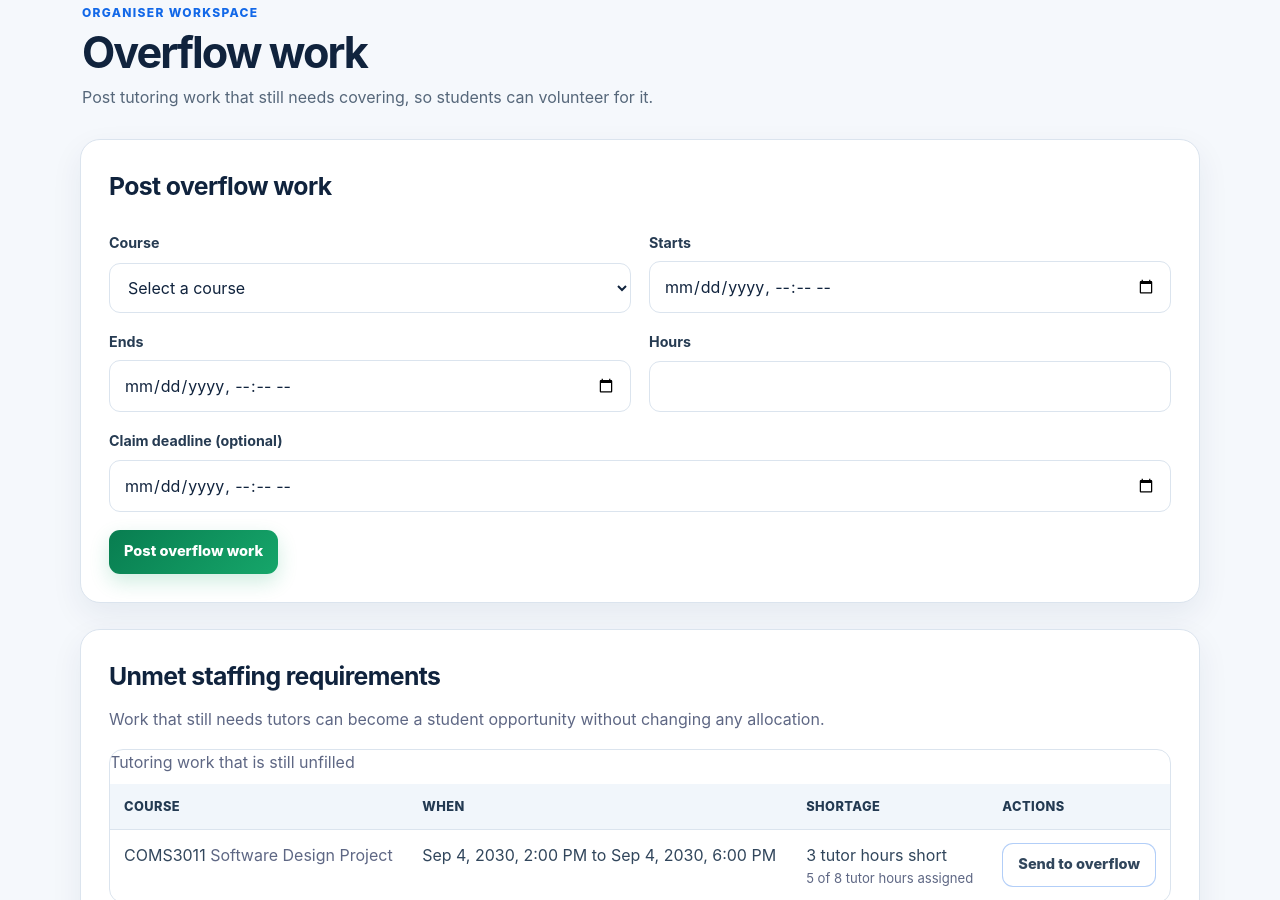
Test: OrganiserOverflow › posts hand-written work with no source requirement
Select "COMS3011 - Software Design Project" in the dropdown labelled "Course" at (370, 288), box [109,263,631,313]
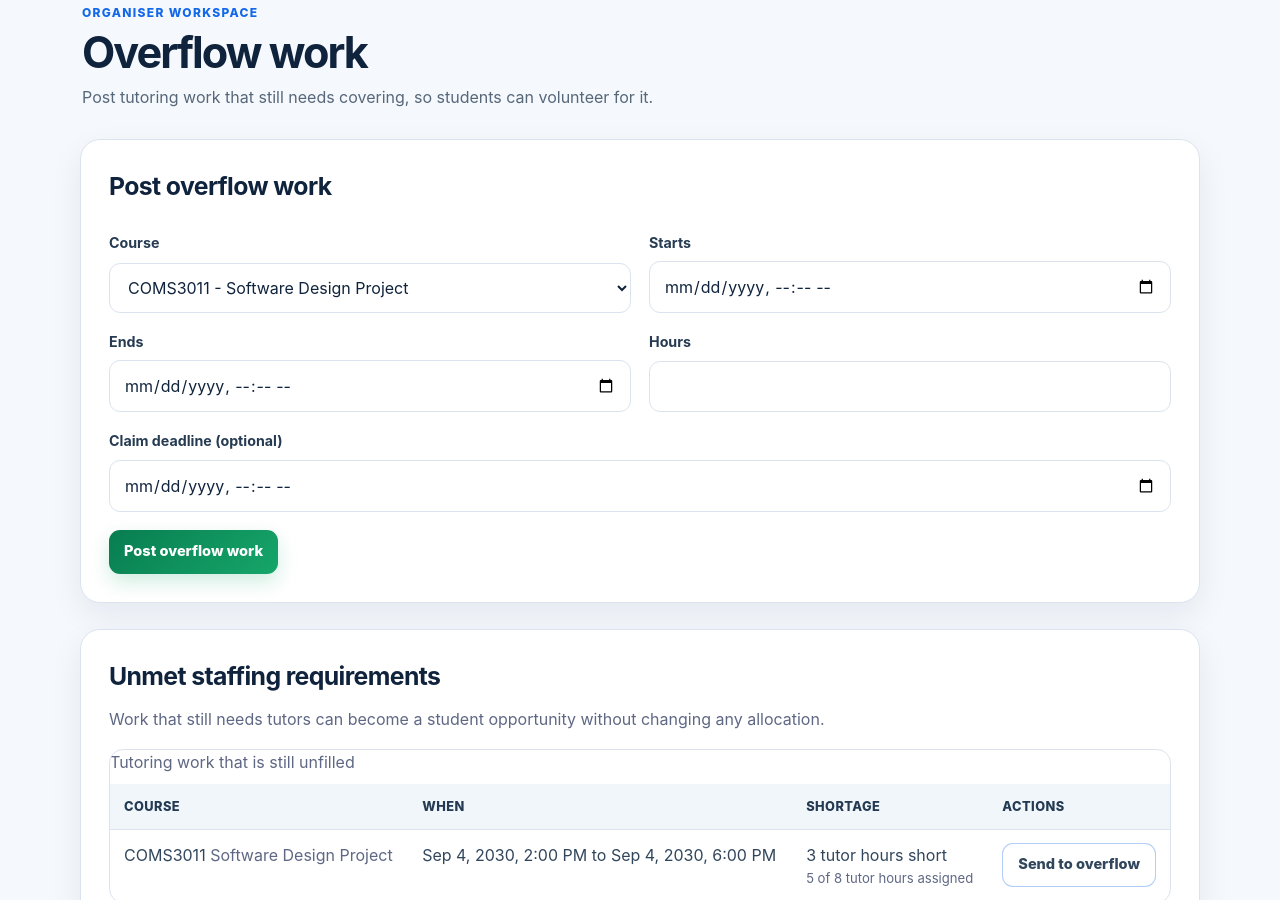
Type "2030-09-04T14:00" into the field labelled "Starts" at (910, 287), box [649,261,1171,313]
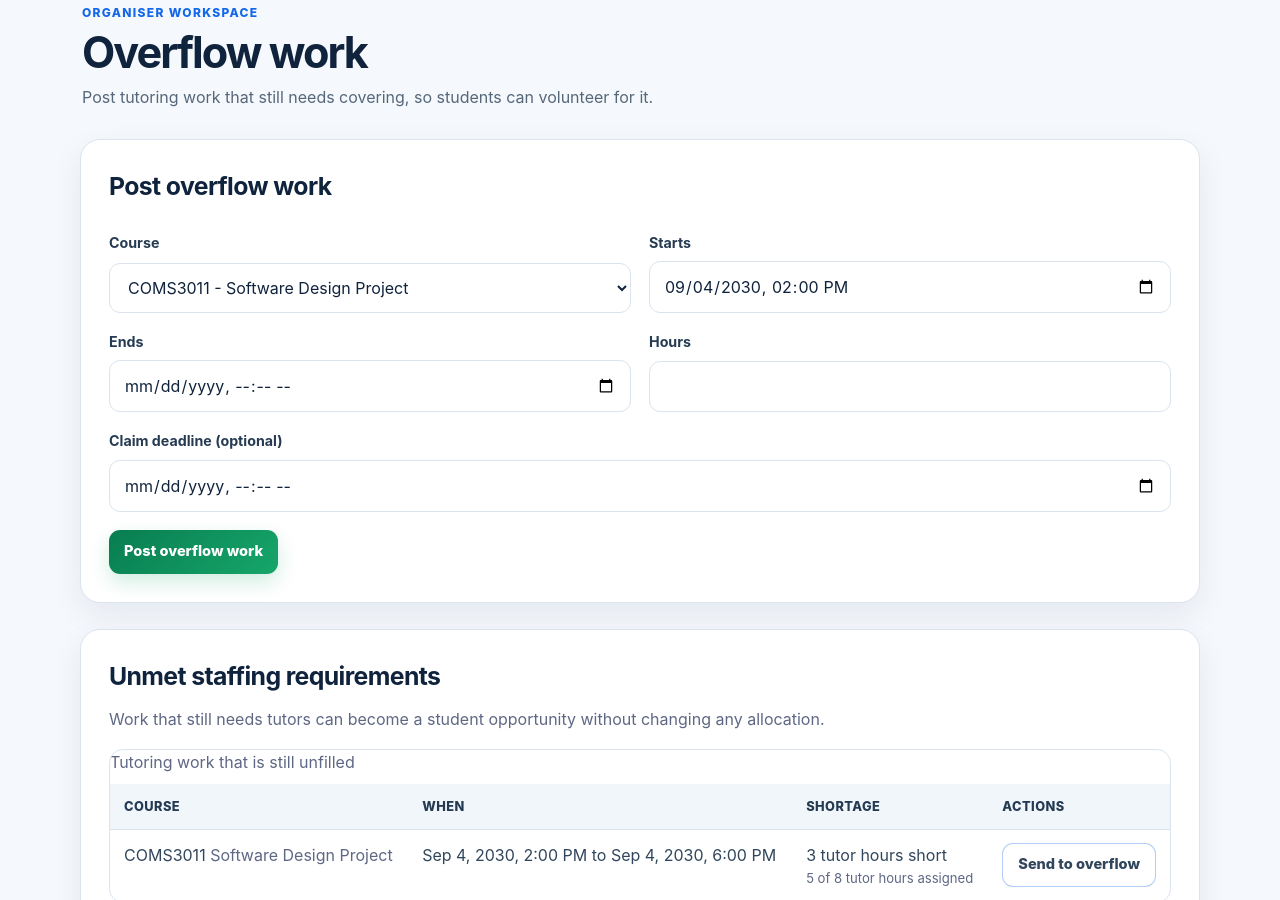
Type "2030-09-04T18:00" into the field labelled "Ends" at (370, 386), box [109,360,631,412]
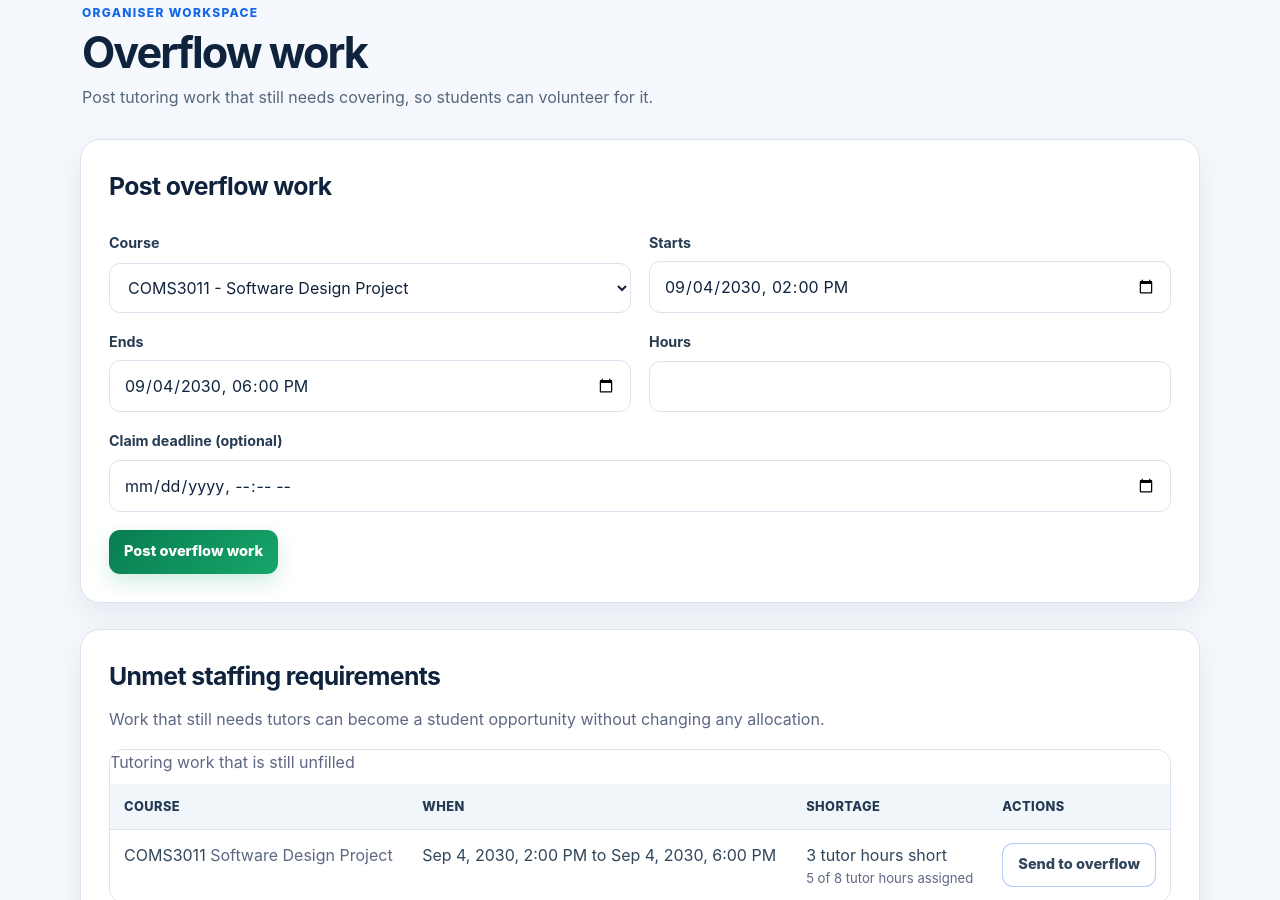
Type "4" into the number field labelled "Hours" at (910, 387), box [649,361,1171,412]
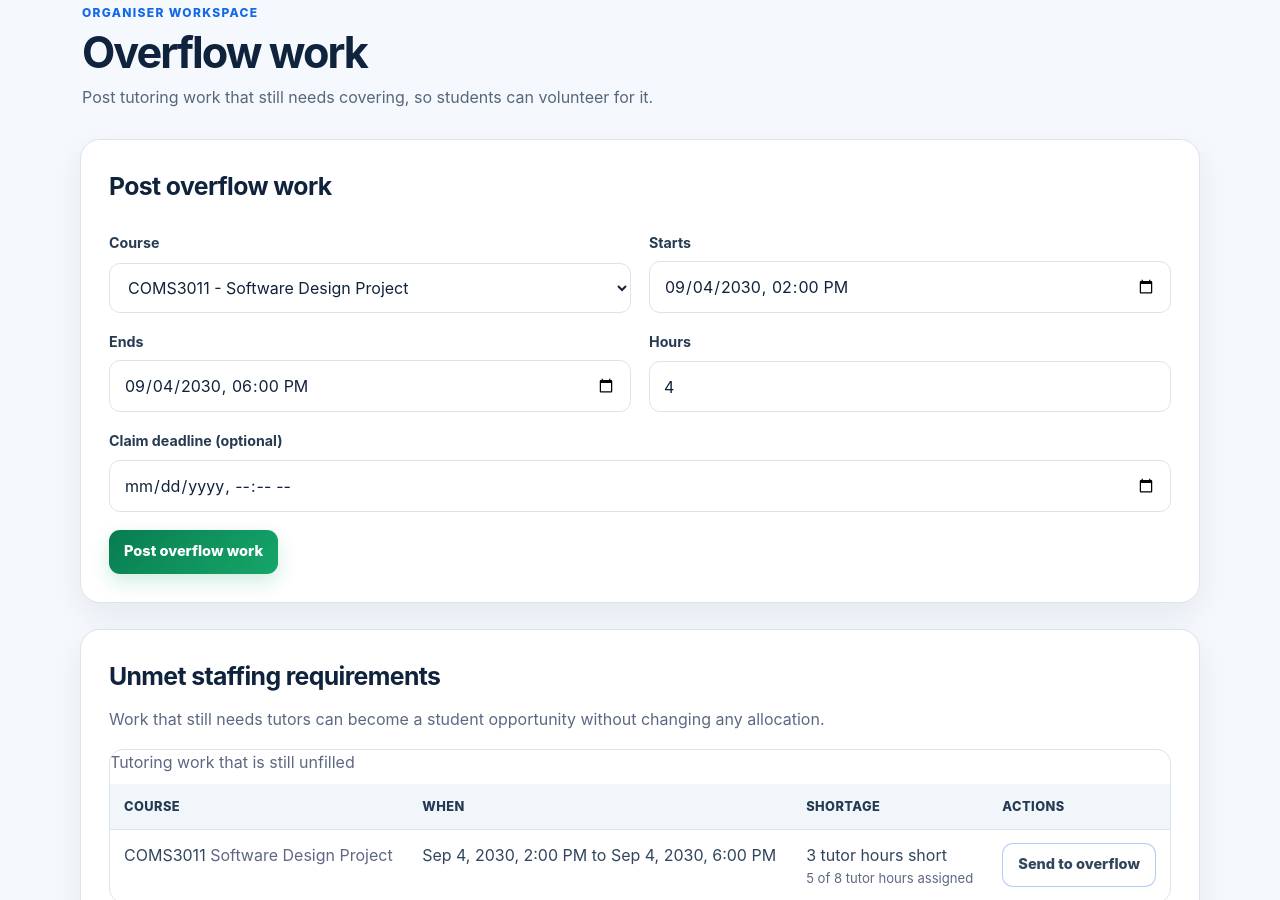
Click the button "Post overflow work" at (194, 552), box [109,530,278,574]
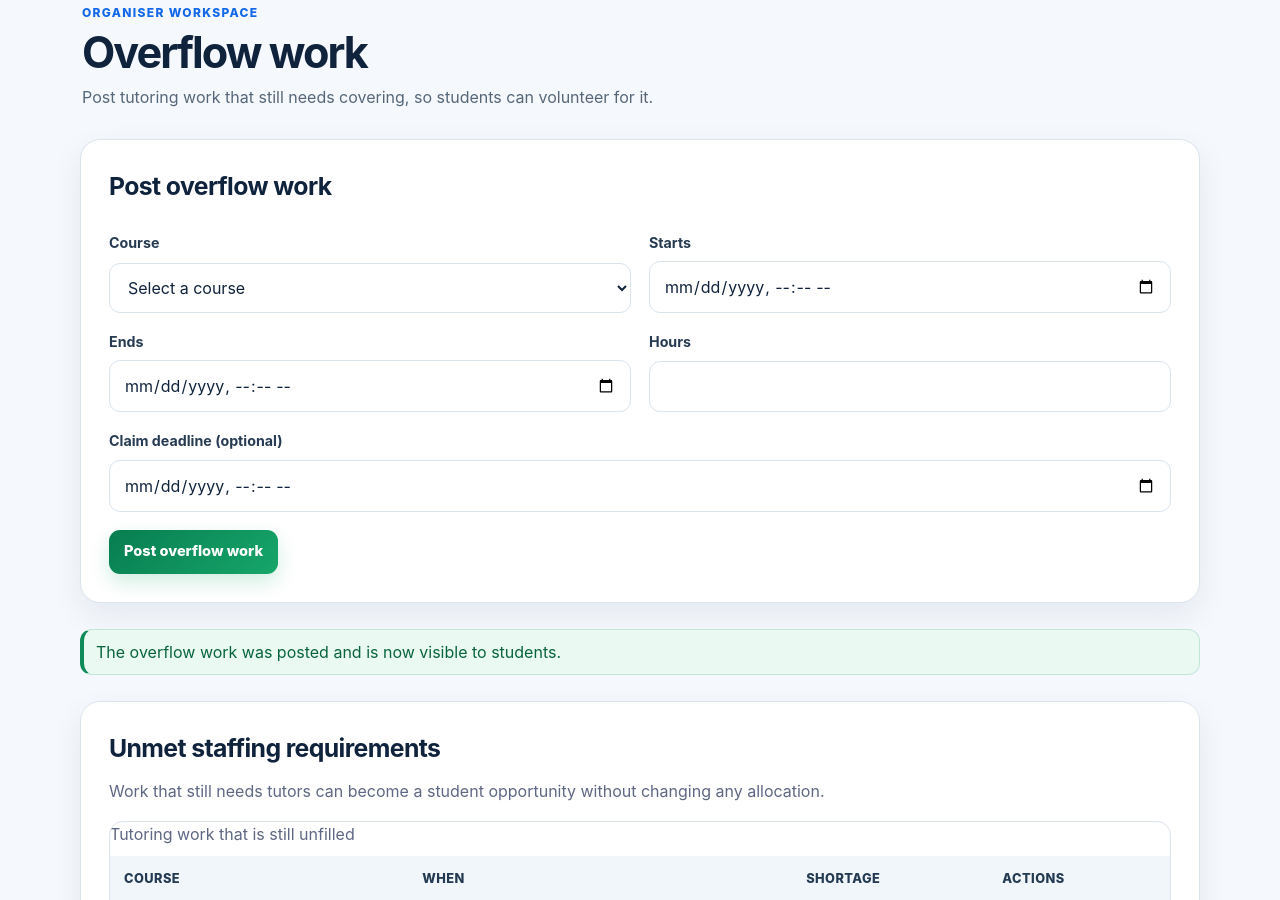
Expected: the text "The overflow work was posted and is now visible to students." is shown, [80,629,1200,675]
